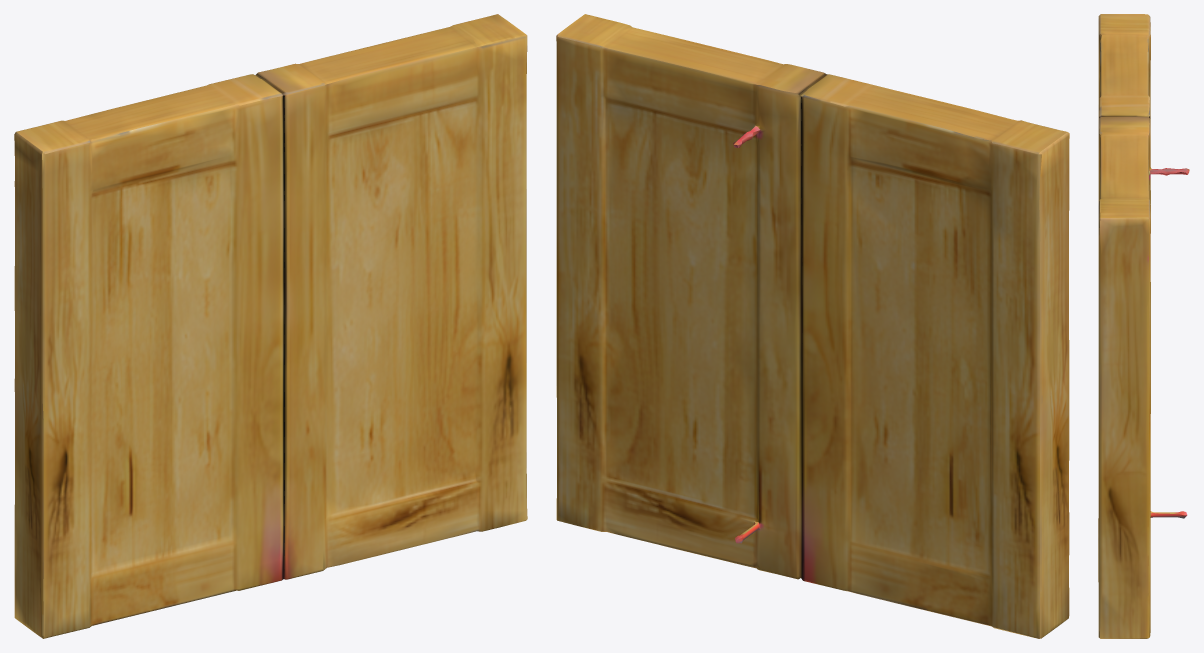
The model's file is PlacardCuisine5_3D_textured.glb.
3 renders of one model, left to right at view 1: azimuth 30°, elevation 25°; view 2: azimuth 150°, elevation 25°; view 3: azimuth 270°, elevation 25°, orthographic. The views are drawn at different scales.
Visible parts, largest first — view 1: temp_mesh.ply; view 2: temp_mesh.ply; view 3: temp_mesh.ply.
Boxes of the visible parts, x1=… form: temp_mesh.ply: x1=14, y1=14, x2=527, y2=638; temp_mesh.ply: x1=556, y1=14, x2=1069, y2=638; temp_mesh.ply: x1=1098, y1=14, x2=1189, y2=638.
Bounding box in the file's own units: 1.97 × 1.89 × 0.3706.
Materials: 1 (1 with a texture image).
